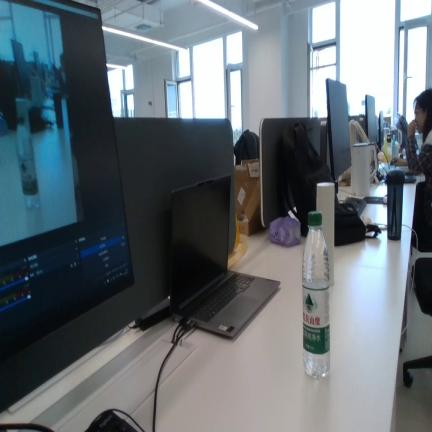bottle: (302, 211, 330, 379)
